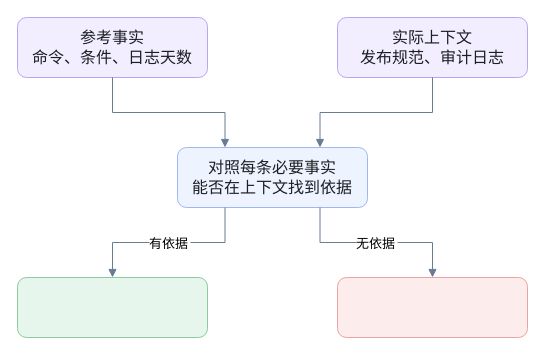
The diagram is 545 pixels wide and 355 high, and some of its shapes have lost their labels. The box of each missing label's shape, as (x1, y1, x2, y2) in pixels:
已覆盖的事实 保留对应证据: (16, 276, 208, 338)
遗漏的事实 列出缺少什么: (336, 276, 528, 338)
